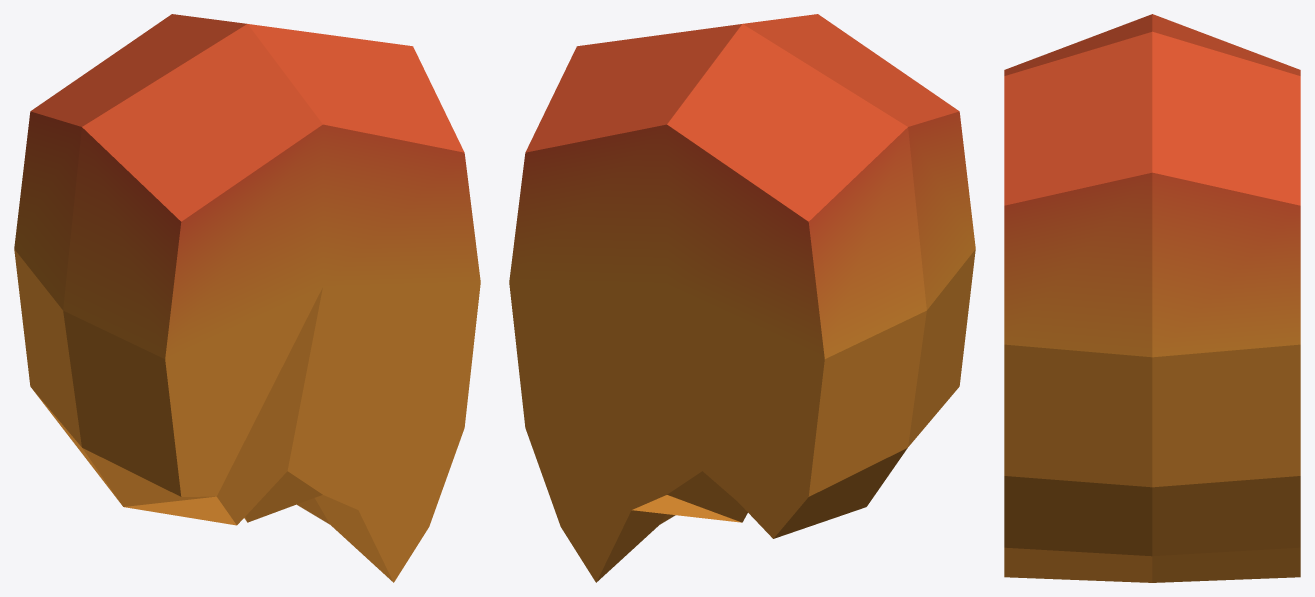
File: lava_drop_01.fbx
The picture shows the model from 3 angles, left to right: view 1: azimuth 30°, elevation 25°; view 2: azimuth 150°, elevation 25°; view 3: azimuth 270°, elevation 25°; orthographic projection.
Parts seen in each view (by area): view 1: lava_drop_01; view 2: lava_drop_01; view 3: lava_drop_01.
Part boxes in pixels (x1,y1,x2,y2): lava_drop_01: (14,14,480,582); lava_drop_01: (509,14,975,582); lava_drop_01: (1004,14,1300,582).
Size of the model in its own units: 137 by 186 by 97.41.
